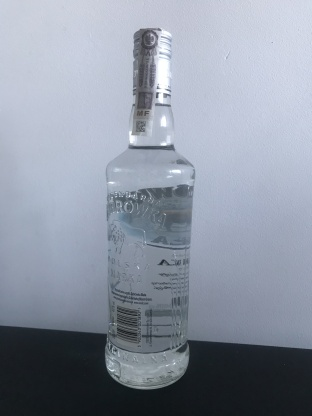nakretka: (130, 24, 174, 99)
